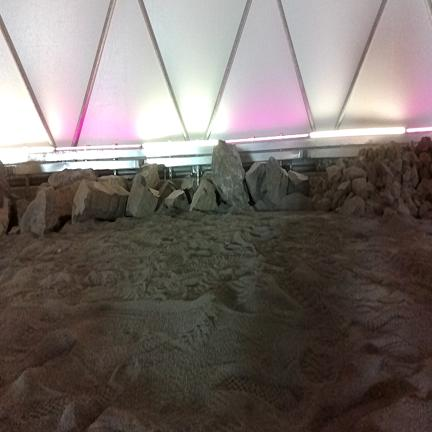Rock: (72, 180, 129, 223), (212, 140, 249, 205), (48, 169, 96, 216), (246, 157, 288, 205), (20, 183, 58, 235), (126, 174, 158, 217), (0, 161, 17, 234), (190, 176, 220, 211), (156, 180, 176, 210), (288, 171, 310, 195), (340, 196, 365, 216), (166, 191, 189, 212), (140, 164, 159, 188), (181, 177, 197, 203), (376, 162, 394, 185), (98, 175, 127, 189), (419, 152, 431, 180), (352, 178, 367, 200), (417, 179, 431, 200), (386, 142, 401, 161), (416, 137, 431, 155), (405, 195, 417, 216), (402, 151, 418, 166), (327, 166, 341, 183), (348, 167, 366, 180), (366, 162, 376, 185), (387, 182, 400, 199), (402, 183, 413, 201), (316, 198, 331, 211), (419, 202, 431, 218), (390, 159, 402, 175), (373, 202, 385, 216), (411, 164, 418, 188), (338, 181, 350, 194), (397, 203, 410, 215), (384, 189, 394, 204), (365, 148, 376, 161), (324, 189, 335, 201), (367, 182, 374, 198), (313, 195, 321, 208), (336, 159, 346, 169), (403, 168, 410, 182), (378, 145, 385, 159), (9, 226, 19, 234), (314, 187, 322, 195)
